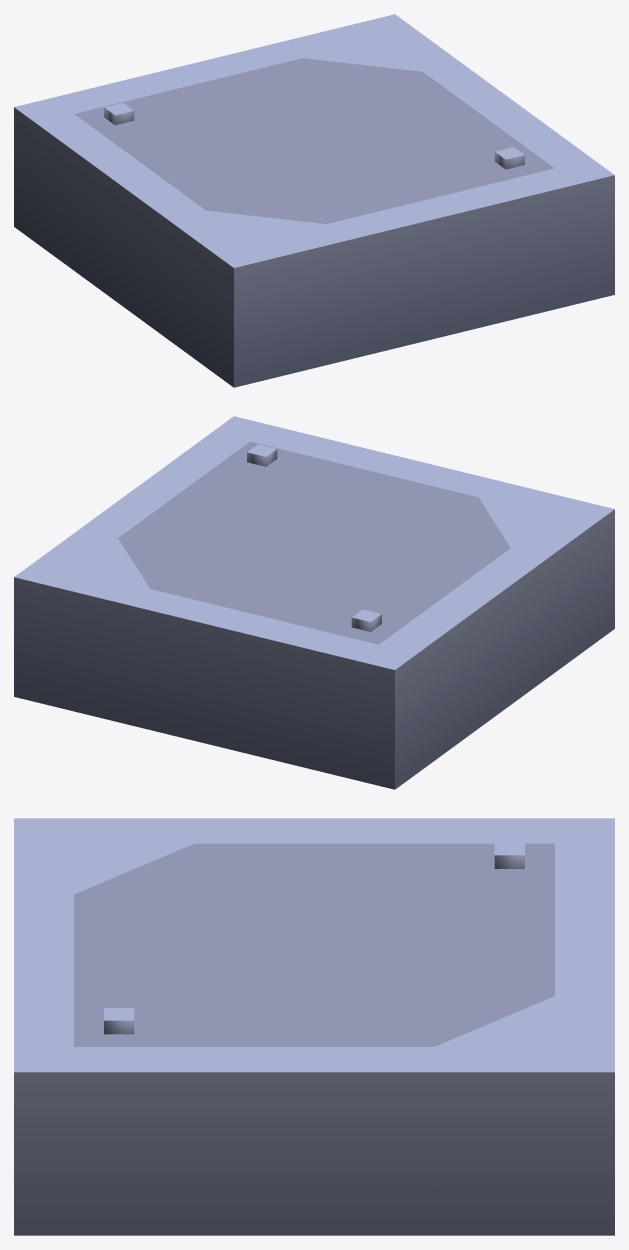
The model's file is kenney-space-station-floor-detail.glb.
3 views of the same model, one above another, from view 1: azimuth 30°, elevation 25°; view 2: azimuth 150°, elevation 25°; view 3: azimuth 270°, elevation 25° (orthographic). The views are drawn at different scales.
Visible parts, largest first — view 1: floor-detail; view 2: floor-detail; view 3: floor-detail.
Part boxes in pixels (x1,y1,x2,y2): floor-detail: [14, 14, 614, 387]; floor-detail: [14, 416, 614, 789]; floor-detail: [14, 818, 614, 1235].
Size of the model in its own units: 1 by 0.325 by 1.
Materials: 1 (1 with a texture image).
